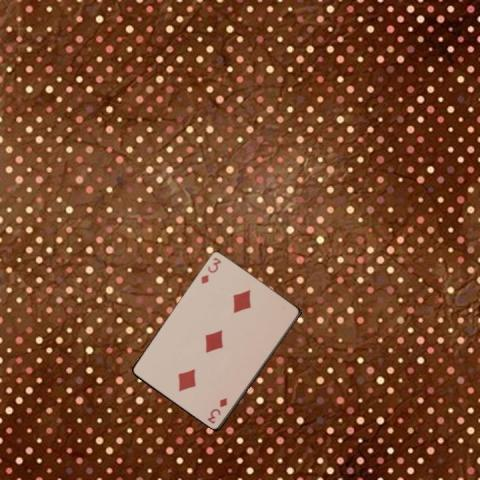3d: (198, 254, 223, 285), (204, 394, 228, 424)
